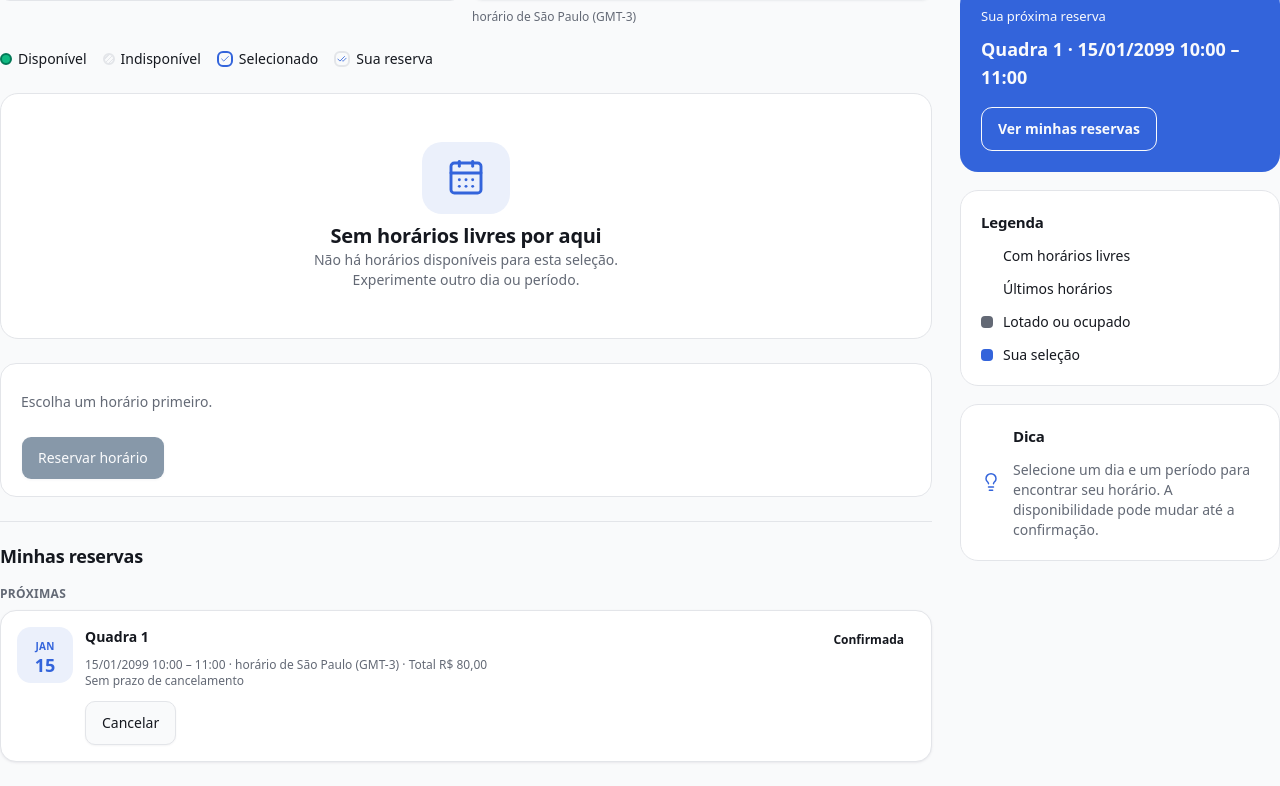
Test case: TenantPortalAgendaPage B2C self-cancel › keeps a second reservation when the revision moves and confirm sees the booking already cancelled
This screenshot has width=1280, height=786.
(page scrolled)
Expected: the heading "Minhas reservas" is shown, [0,544,143,568]
Expected: the list item "Quadra 1" shows "R$ 80,00", [409,656,487,673]
Click the button "Cancelar": [131, 723] box [85,701,176,745]
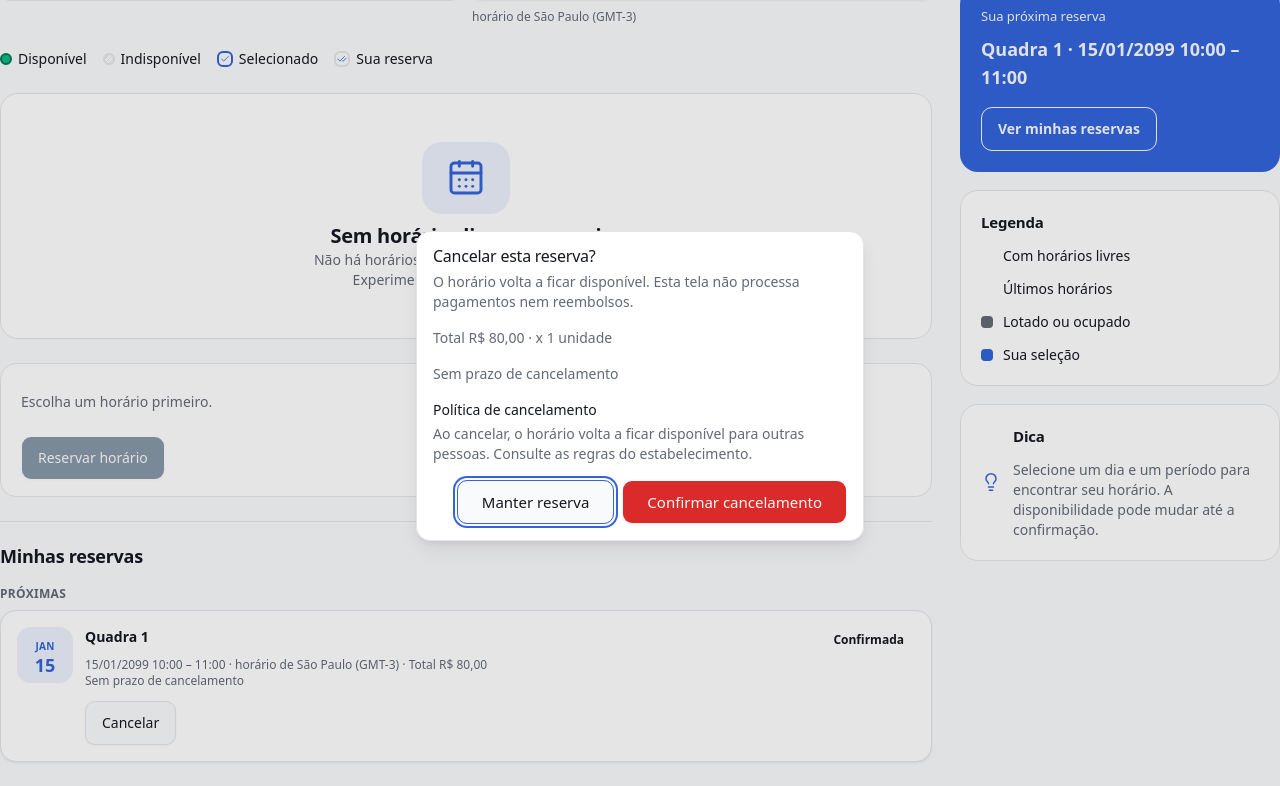
Click the button "Confirmar cancelamento": [735, 502] box [622,480,847,524]
(page scrolled)
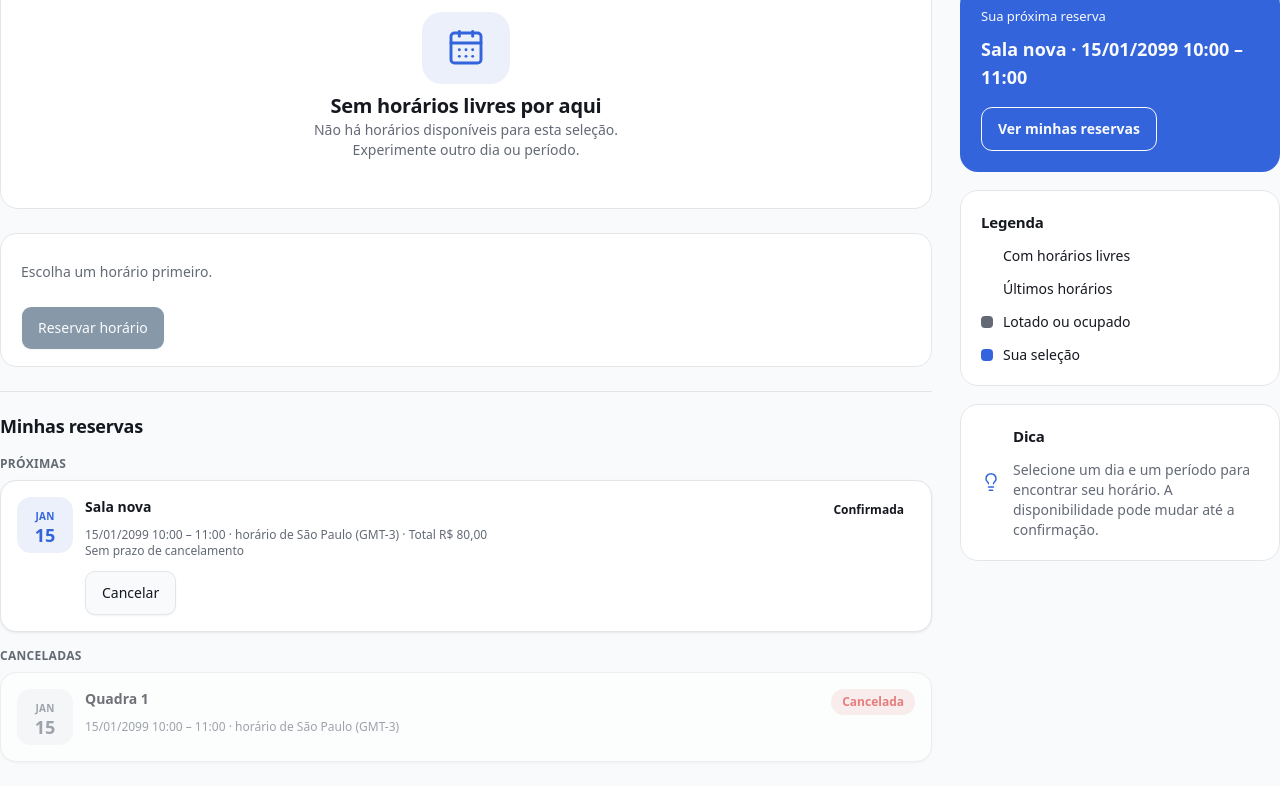
Expected: the text "Sala nova" is shown, [85,497,152,517]
Expected: the text "Cancelada" is shown, [831,689,915,715]
